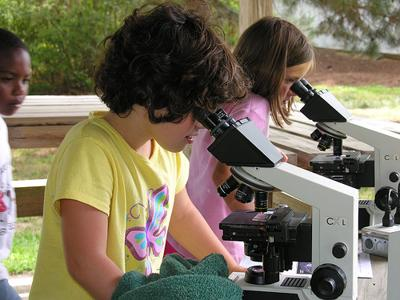person: (27, 4, 248, 300)
